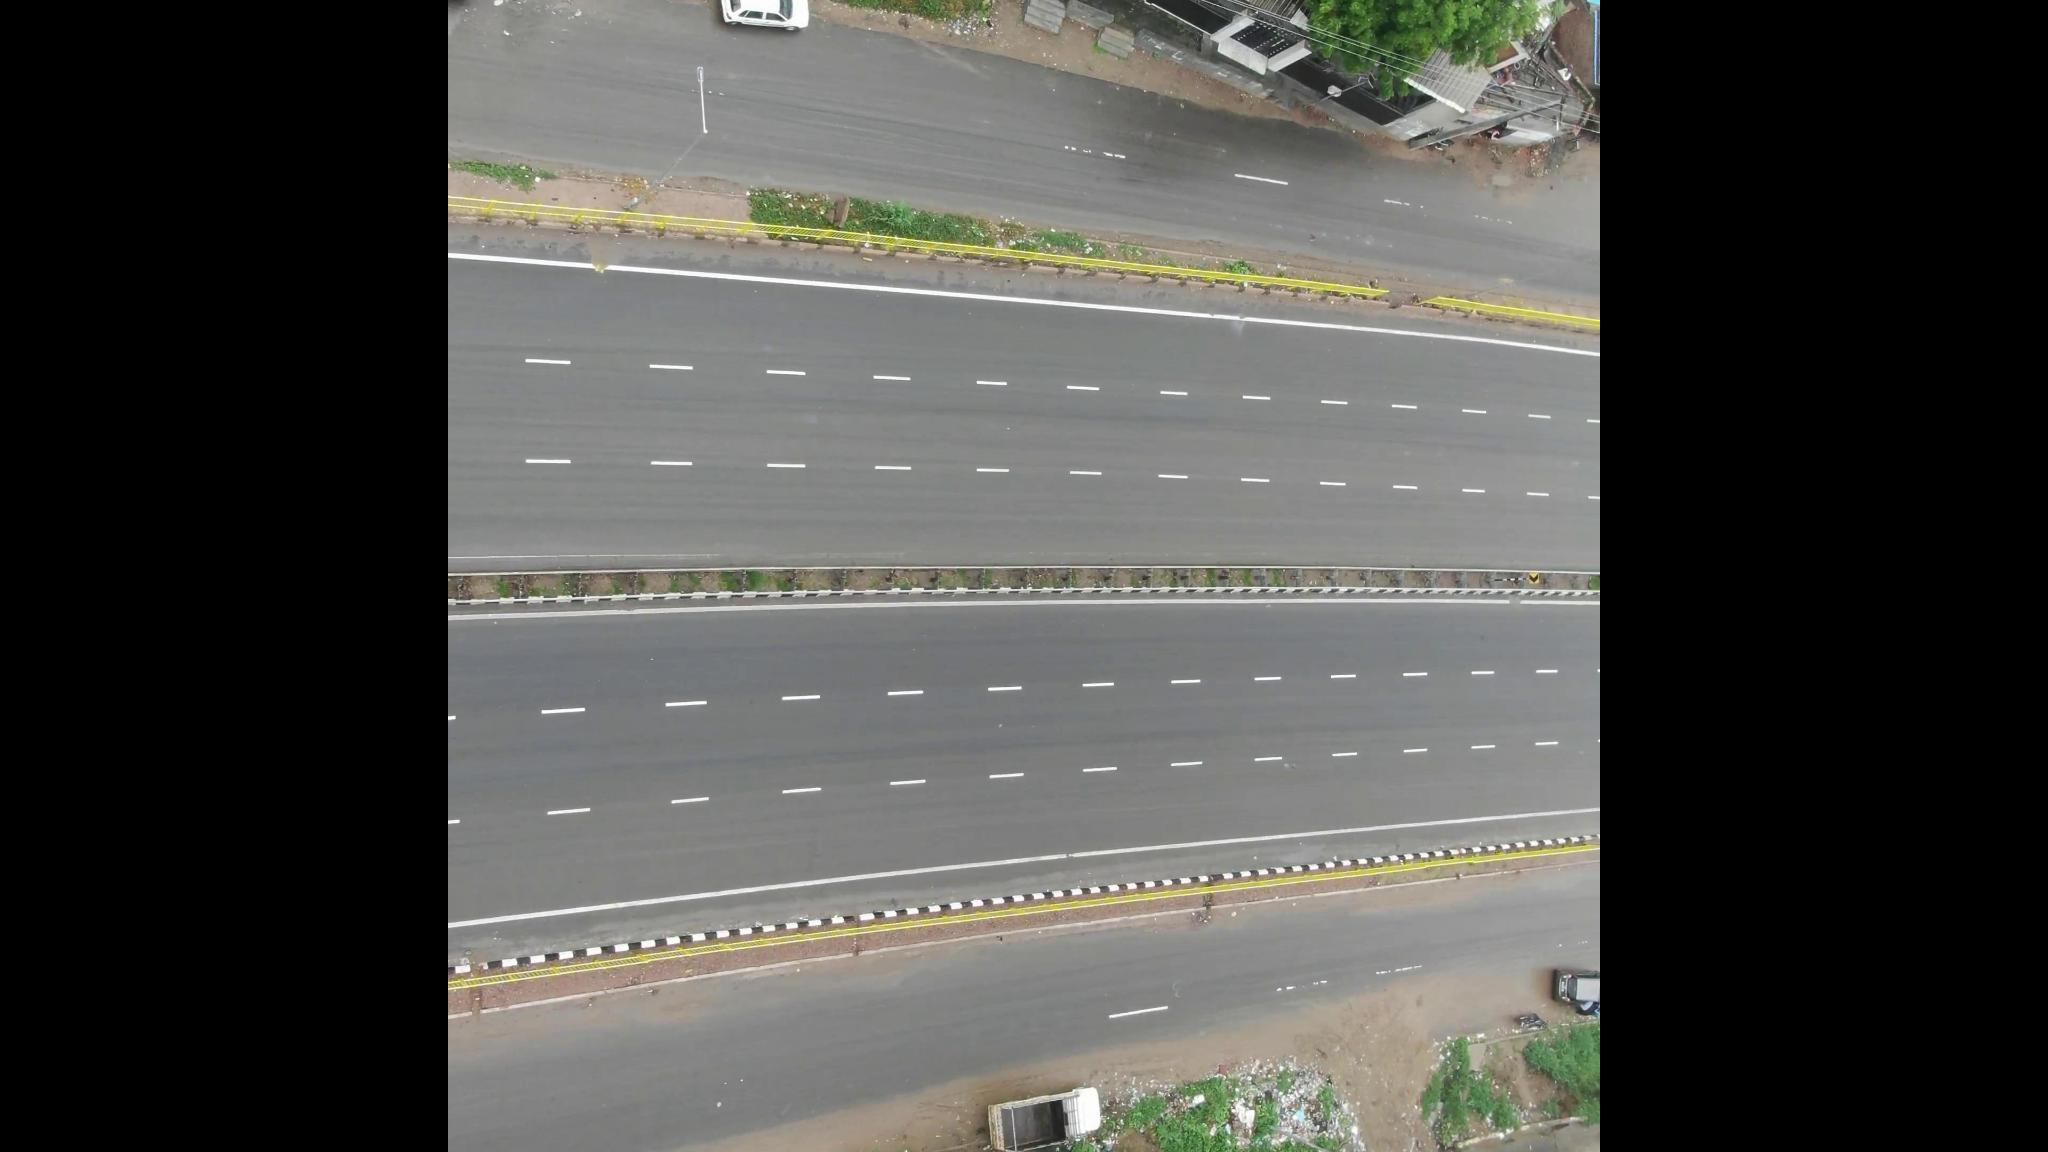Road_side_garbage: (1197, 1051, 1377, 1152)
